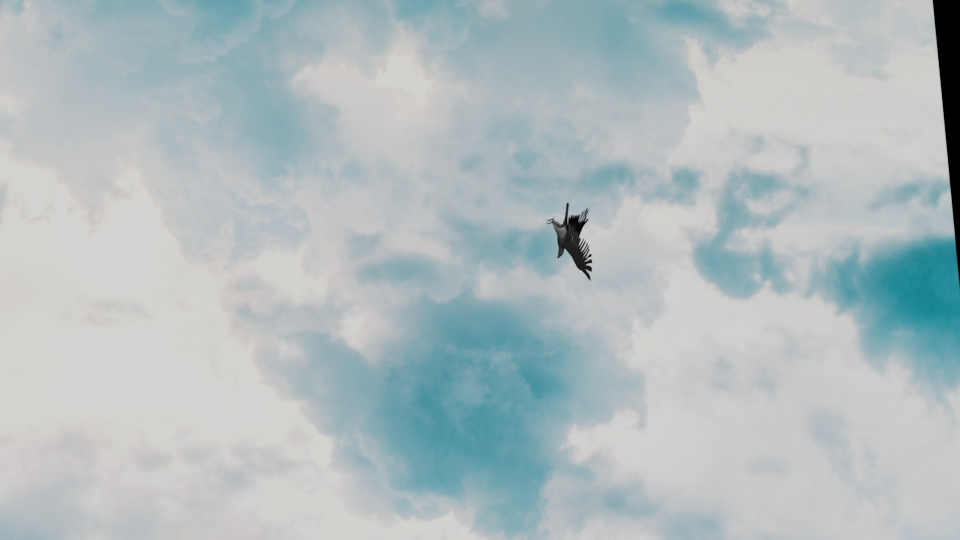bird: (549, 200, 597, 282)
